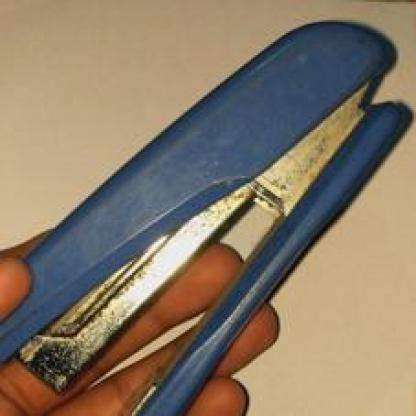stapler: (15, 13, 403, 414)
